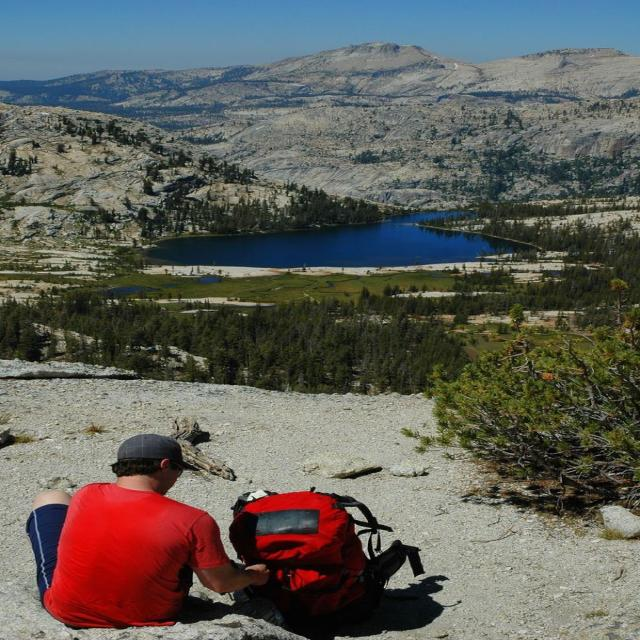backpack: (228, 484, 410, 626)
